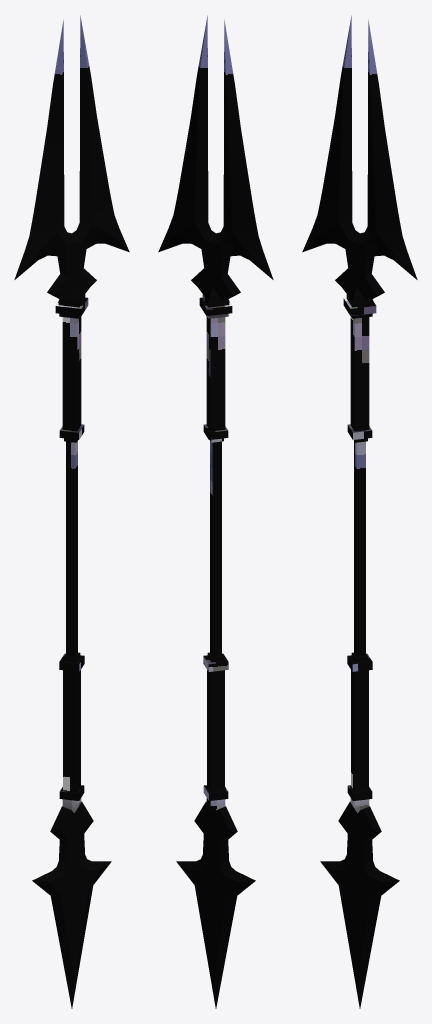
File: vortex.obj
3 renders of one model, left to right at view 1: azimuth 30°, elevation 25°; view 2: azimuth 150°, elevation 25°; view 3: azimuth 330°, elevation 25°, orthographic.
Parts seen in each view (by area): view 1: Vert.001; view 2: Vert.001; view 3: Vert.001.
Part boxes in pixels (<box>): Vert.001: <box>14,15,129,1008</box>; Vert.001: <box>158,15,273,1008</box>; Vert.001: <box>302,15,417,1008</box>.
Bounding box in the file's own units: 28.66 × 235 × 8.16.
